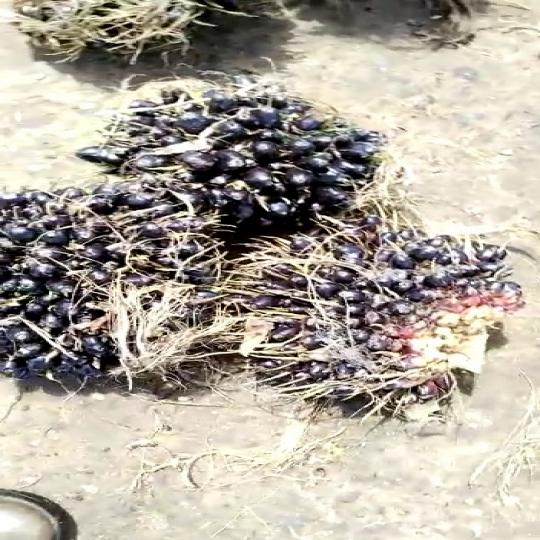mentah: (225, 208, 516, 429), (0, 202, 258, 425), (116, 79, 386, 222)
